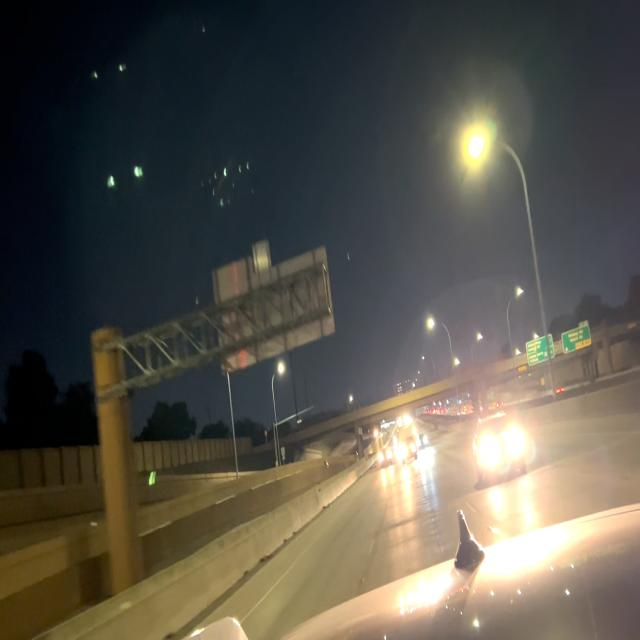back-of-sign: (212, 238, 338, 376)
